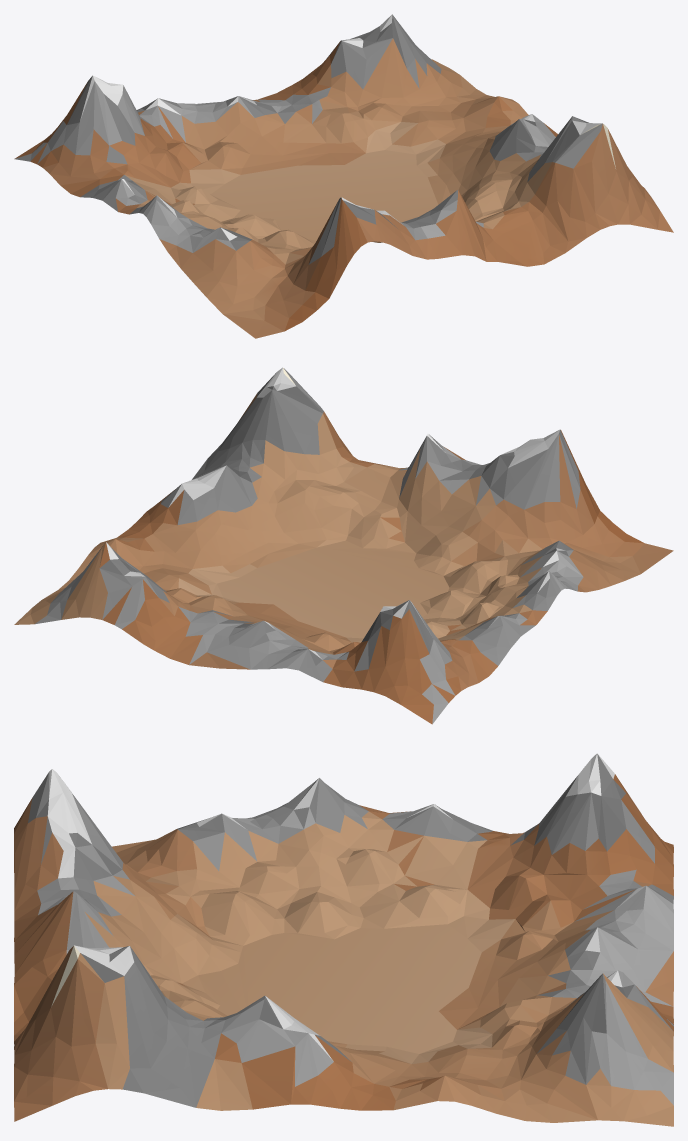
Rendered from DesertMountains.glb.
The picture shows the model from 3 angles, top to bottom: view 1: azimuth 30°, elevation 25°; view 2: azimuth 150°, elevation 25°; view 3: azimuth 270°, elevation 25°; orthographic projection. The views are drawn at different scales.
Visible parts, largest first — view 1: DesertMap_MountainsDeci_col; view 2: DesertMap_MountainsDeci_col; view 3: DesertMap_MountainsDeci_col.
Boxes of the visible parts, x1,y1,x2,y2 form: DesertMap_MountainsDeci_col: (14,14,673,338); DesertMap_MountainsDeci_col: (14,367,673,724); DesertMap_MountainsDeci_col: (14,753,673,1126).
Bounding box in the file's own units: 288 × 71.85 × 288.
Materials: 1 (1 with a texture image).
